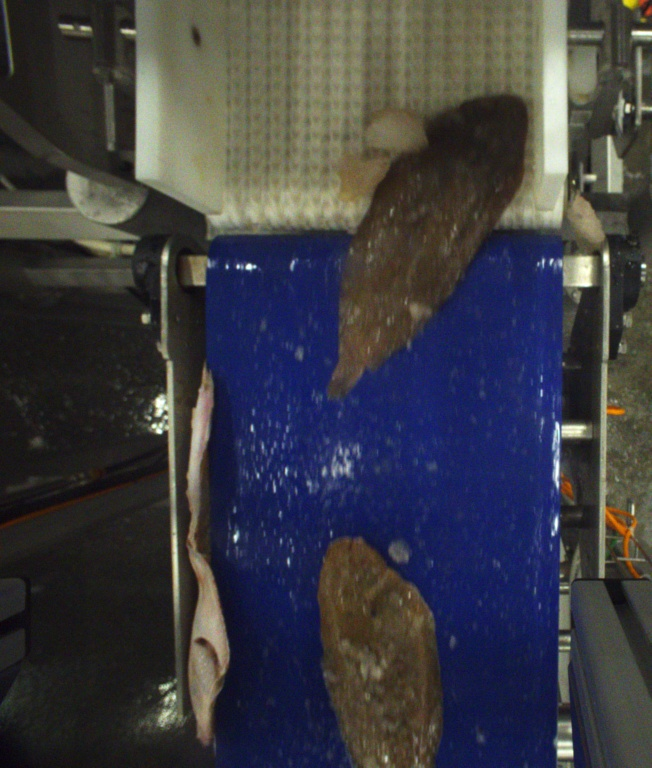SOL: (329, 93, 528, 397)
